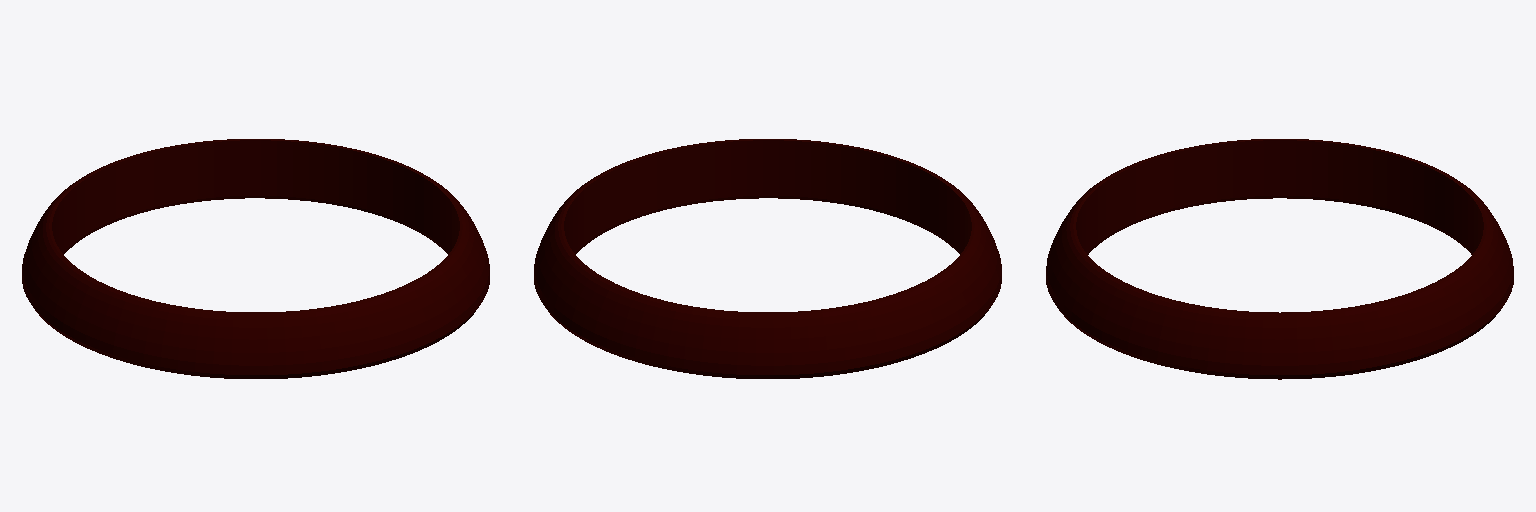
The model's file is Fixed_ring3.obj.
The picture shows the model from 3 angles: view 1: azimuth 30°, elevation 25°; view 2: azimuth 150°, elevation 25°; view 3: azimuth 270°, elevation 25°; orthographic projection.
Visible parts, largest first — view 1: pCylinder9 pCylinder2SmoothProxyGroup; view 2: pCylinder9 pCylinder2SmoothProxyGroup; view 3: pCylinder9 pCylinder2SmoothProxyGroup.
Boxes of the visible parts, x1,y1,x2,y2 form: pCylinder9 pCylinder2SmoothProxyGroup: [22, 139, 489, 378]; pCylinder9 pCylinder2SmoothProxyGroup: [534, 139, 1001, 378]; pCylinder9 pCylinder2SmoothProxyGroup: [1046, 139, 1513, 379].
Size of the model in its own units: 2.98 by 0.4159 by 2.98.